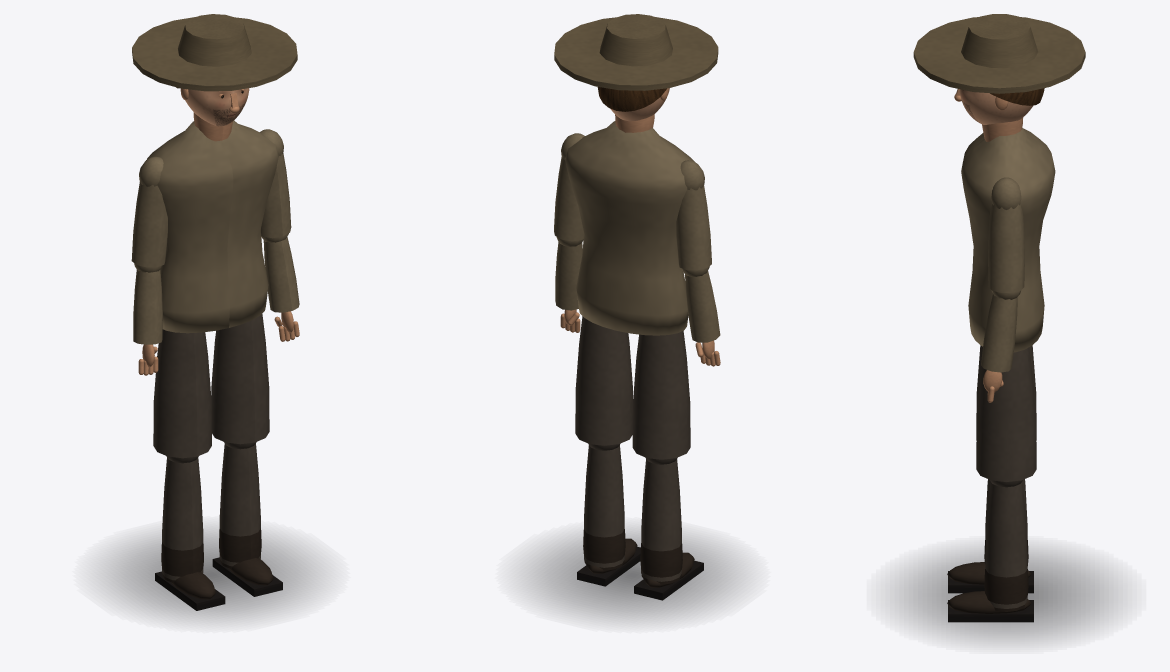
The model's file is npc_settler_a.glb.
The picture shows the model from 3 angles, left to right: view 1: azimuth 30°, elevation 25°; view 2: azimuth 150°, elevation 25°; view 3: azimuth 270°, elevation 25°; orthographic projection. The views are drawn at different scales.
Parts seen in each view (by area): view 1: chest, head, object 11, legL, legR, shinL, shinR, armL, foreL, foreR, armR; view 2: chest, head, object 11, legL, legR, shinL, shinR, armL, foreL, foreR, armR; view 3: head, object 11, chest, shinR, legR, armR, foreR, shinL, legL.
Boxes of the visible parts, x1,y1,x2,y2 form: chest: [147, 112, 279, 333]; head: [132, 14, 297, 126]; object 11: [101, 528, 321, 621]; legL: [153, 329, 211, 458]; legR: [211, 314, 269, 444]; shinL: [155, 456, 225, 610]; shinR: [212, 442, 282, 596]; armL: [131, 156, 167, 267]; foreL: [133, 263, 162, 375]; foreR: [261, 233, 299, 341]; armR: [260, 129, 291, 238]; chest: [565, 114, 695, 335]; head: [554, 14, 718, 121]; object 11: [523, 529, 742, 621]; legL: [632, 330, 690, 459]; legR: [575, 316, 632, 445]; shinL: [634, 457, 703, 600]; shinR: [577, 443, 640, 586]; armL: [676, 160, 711, 270]; foreL: [682, 266, 720, 366]; foreR: [555, 237, 583, 332]; armR: [554, 133, 584, 241]; head: [913, 14, 1085, 124]; object 11: [894, 548, 1118, 642]; chest: [961, 117, 1055, 352]; shinR: [947, 480, 1033, 622]; legR: [976, 347, 1036, 481]; armR: [988, 177, 1024, 292]; foreR: [981, 290, 1020, 402]; shinL: [947, 479, 1033, 593]; legL: [976, 345, 1036, 440].
Bounding box in the file's own units: 0.868 × 1.84 × 0.868.
6 materials, 5 textured.
